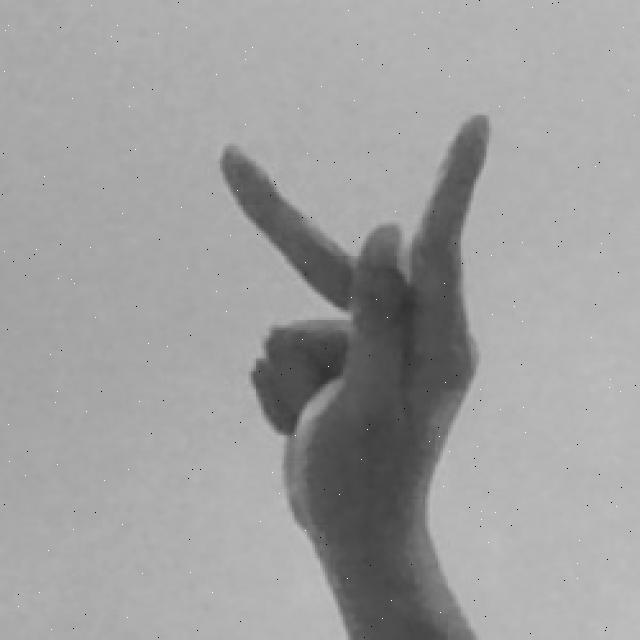K: (214, 107, 509, 640)
